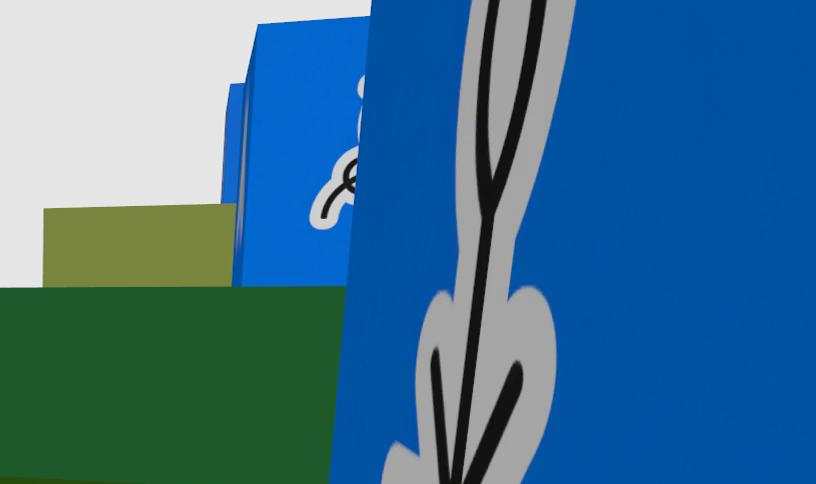KFS_REAL: (327, 0, 815, 484), (380, 0, 575, 484), (234, 18, 368, 286)
